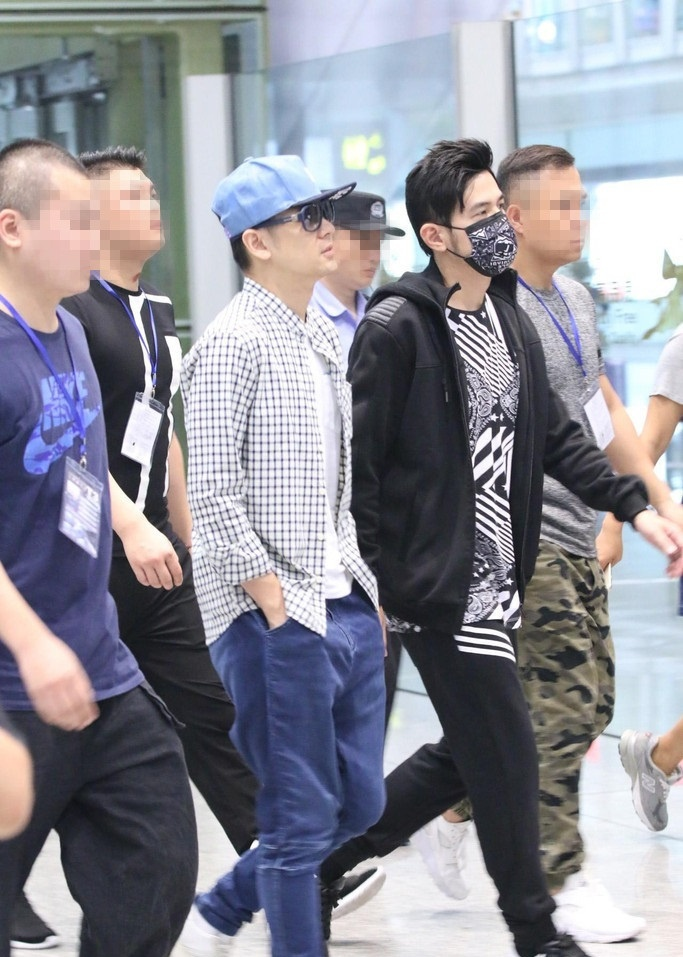Mask: (434, 188, 518, 272)
